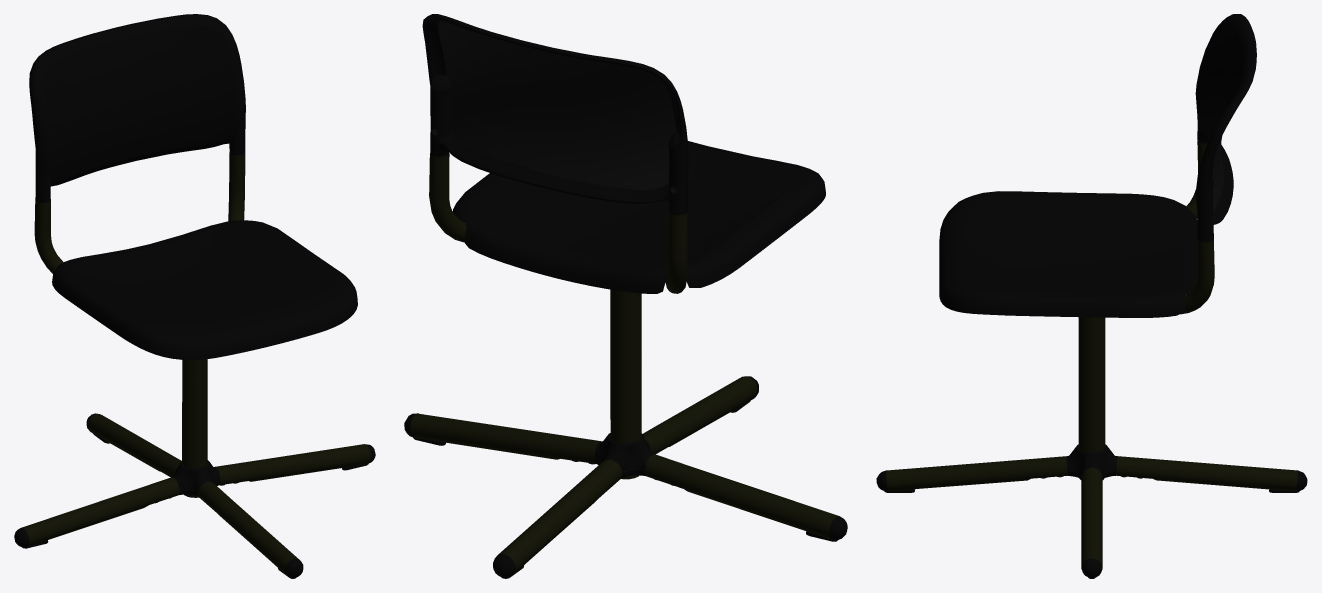
The model's file is smallen_krzeso_obrotowe_00503435.glb.
3 renders of one model, left to right at view 1: azimuth 30°, elevation 25°; view 2: azimuth 150°, elevation 25°; view 3: azimuth 270°, elevation 25°, orthographic. The views are drawn at different scales.
Parts seen in each view (by area): view 1: smallen_krzeso_obrotowe_00503435; view 2: smallen_krzeso_obrotowe_00503435; view 3: smallen_krzeso_obrotowe_00503435.
Part boxes in pixels (bbox=[...]): smallen_krzeso_obrotowe_00503435: bbox=[14, 14, 375, 578]; smallen_krzeso_obrotowe_00503435: bbox=[404, 14, 847, 578]; smallen_krzeso_obrotowe_00503435: bbox=[876, 14, 1307, 578].
Bounding box in the file's own units: 0.6548 × 0.7328 × 0.6546.
Materials: 1 (1 with a texture image).
